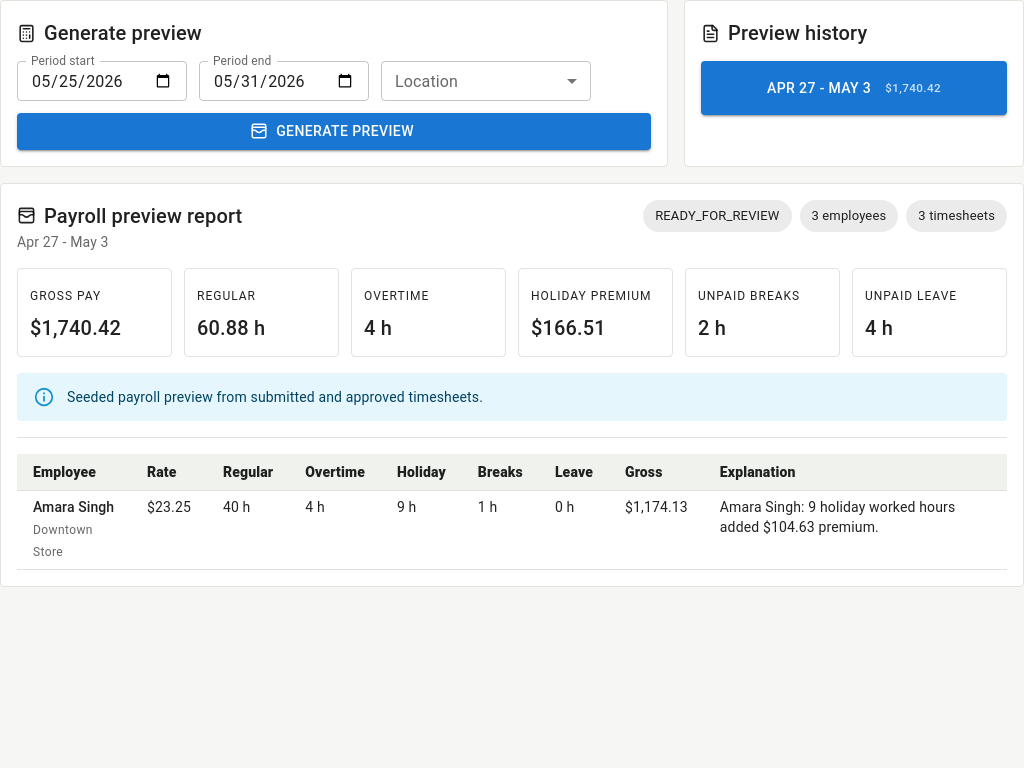
PayrollPanel › shows blocking validation errors from preview generation
What coordinates should you click on to do the following:
click the button "Generate preview"
I would click on:
 (334, 131)
Its box is [17,113,651,150].
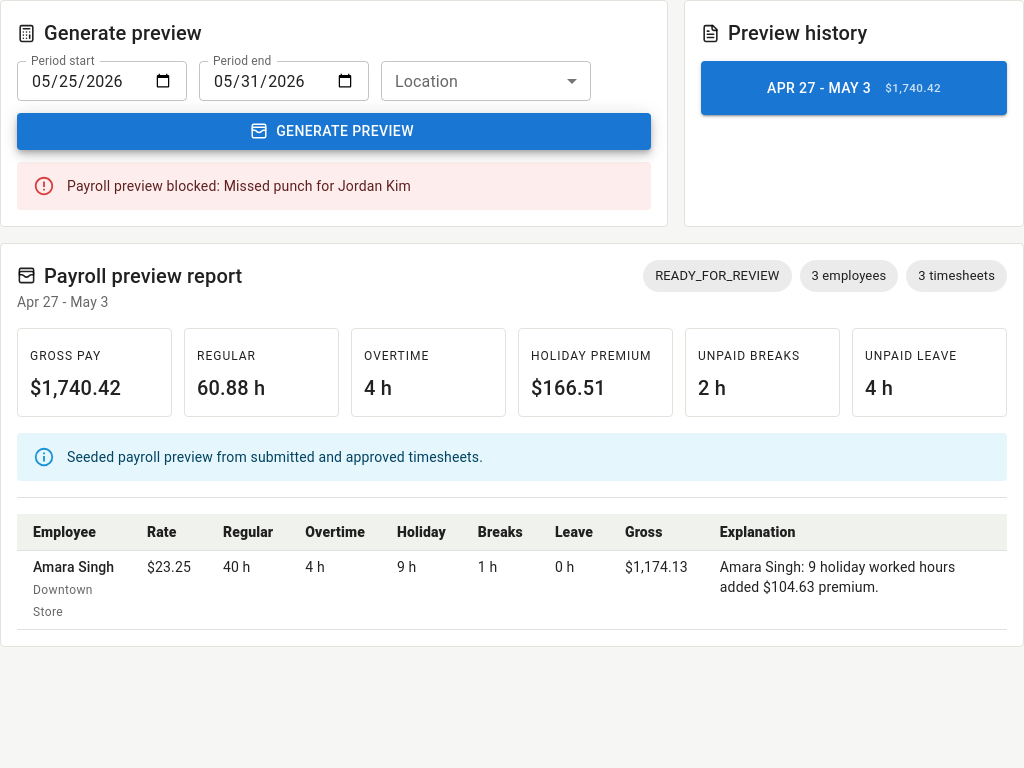
Check: the text "Payroll preview blocked: Missed punch for Jordan Kim" is shown, box [67,178,411,194]
